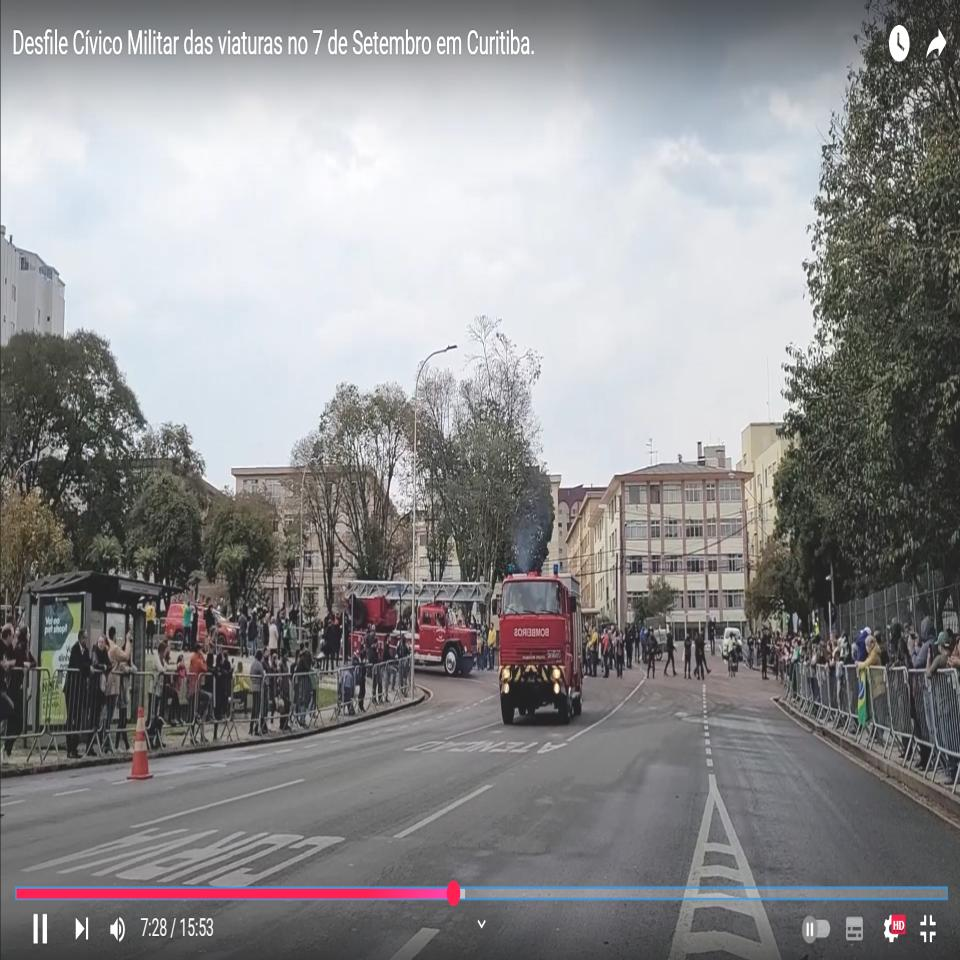bombeiro: (491, 564, 585, 725), (414, 575, 489, 675)
